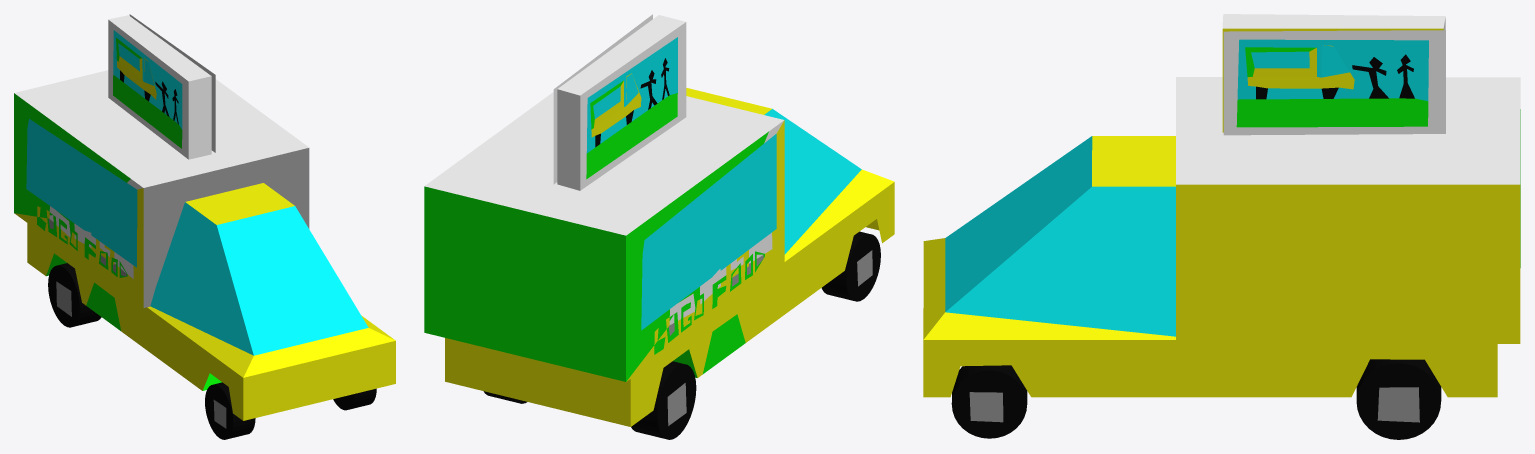
The model's file is foodTruck.glb.
3 views of the same model, side by side, from view 1: azimuth 30°, elevation 25°; view 2: azimuth 150°, elevation 25°; view 3: azimuth 270°, elevation 25° (orthographic). The views are drawn at different scales.
Visible parts, largest first — view 1: Cube.018; view 2: Cube.018; view 3: Cube.018.
Boxes of the visible parts, x1=… form: Cube.018: x1=14, y1=14, x2=395, y2=439; Cube.018: x1=424, y1=14, x2=894, y2=439; Cube.018: x1=923, y1=14, x2=1520, y2=439.
Bounding box in the file's own units: 0.6288 × 1.01 × 1.48.
